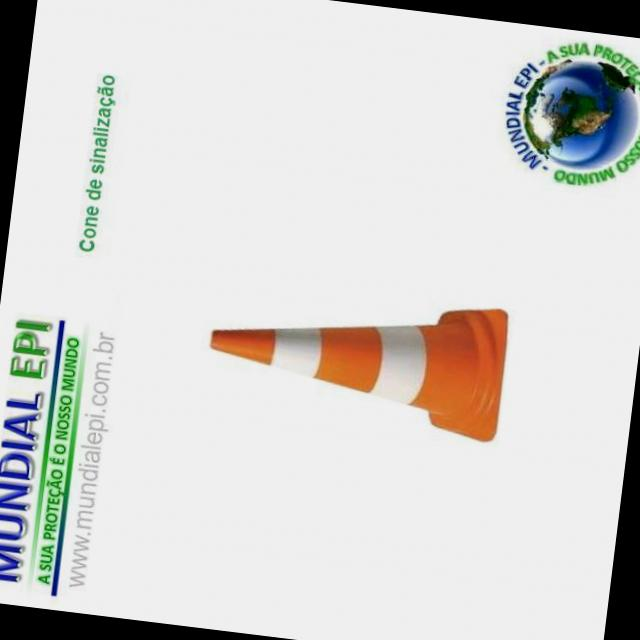cone: (185, 248, 524, 449)
